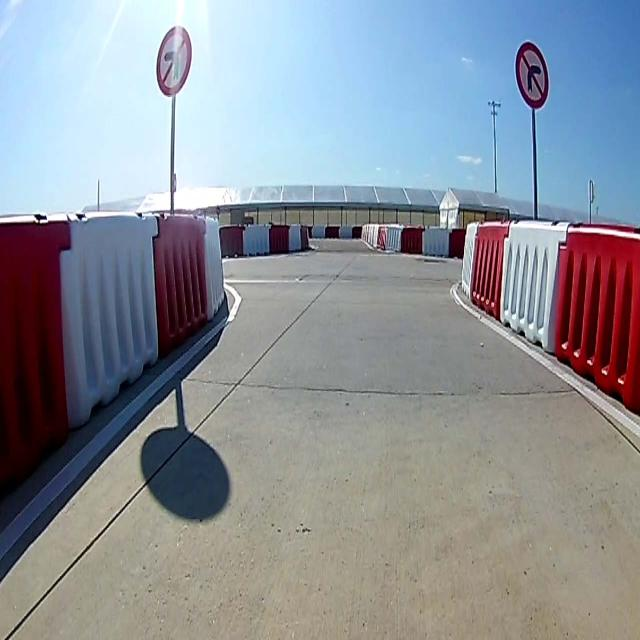sagadonulmez: (514, 44, 550, 110)
soladonulmez: (158, 24, 188, 93)
